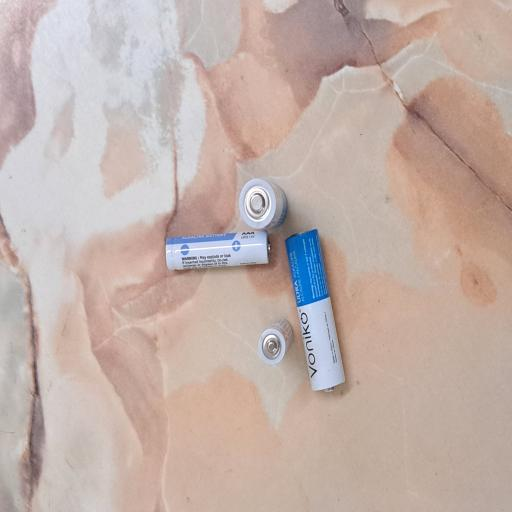battery: (284, 228, 346, 392), (166, 232, 271, 272), (239, 178, 288, 232), (257, 317, 294, 364)
